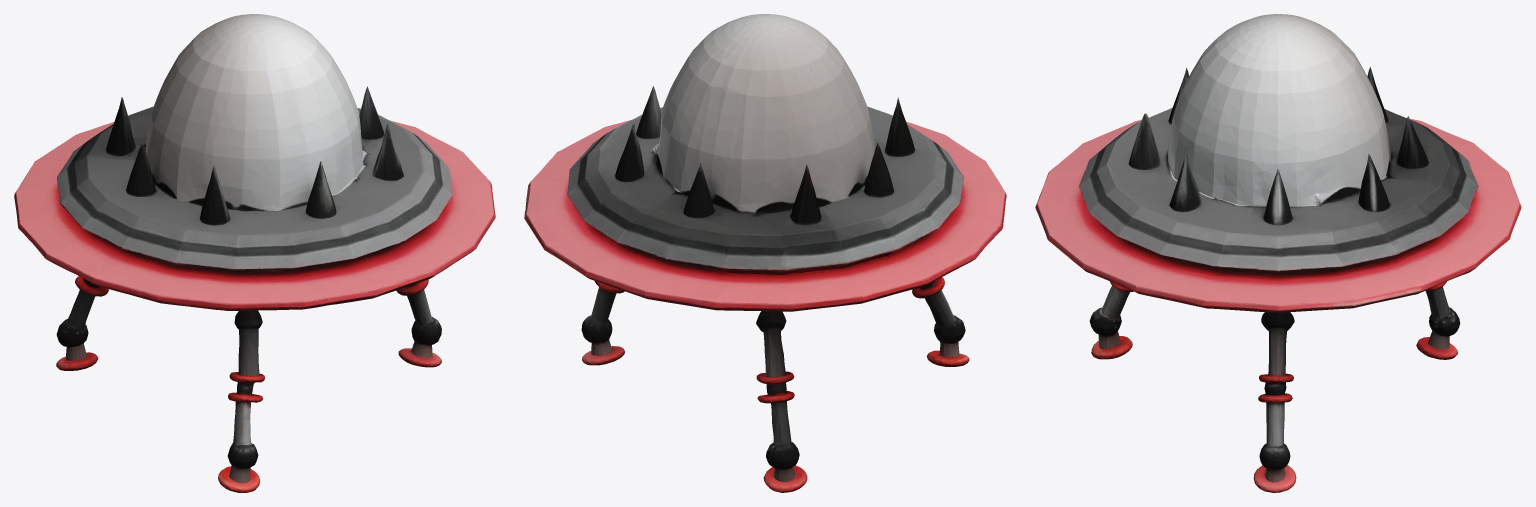
The model's file is 3deditformer_t01.glb.
The picture shows the model from 3 angles, left to right: view 1: azimuth 30°, elevation 25°; view 2: azimuth 150°, elevation 25°; view 3: azimuth 270°, elevation 25°; orthographic projection.
Parts seen in each view (by area): view 1: geometry_0; view 2: geometry_0; view 3: geometry_0.
Part boxes in pixels (box(x1,y1,x2,y2)): geometry_0: box(14, 14, 495, 492); geometry_0: box(524, 14, 1006, 492); geometry_0: box(1035, 14, 1521, 492).
Bounding box in the file's own units: 2 × 1.74 × 2.
1 material, 1 textured.
